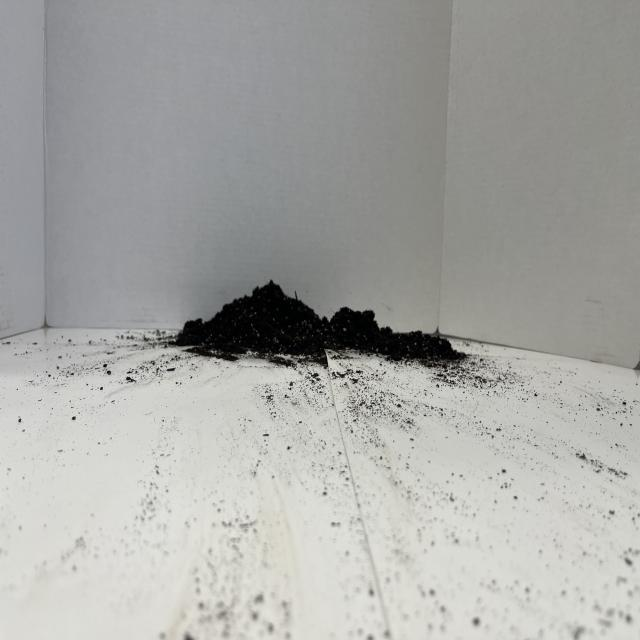soil: (173, 277, 467, 370)
